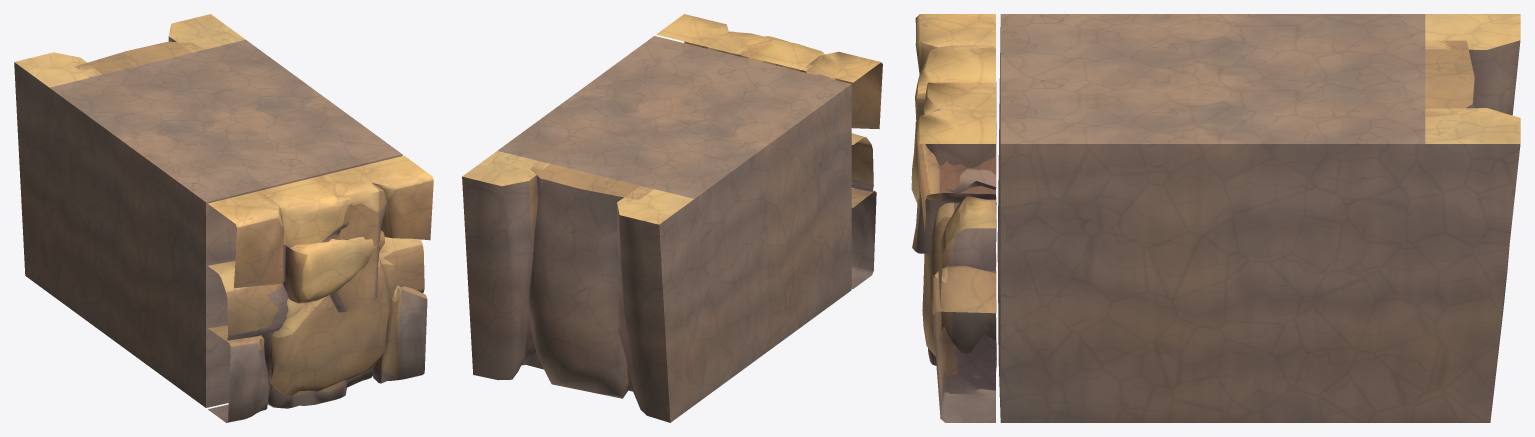
The model's file is T04_BareRockCore_V3.fbx.
The picture shows the model from 3 angles, left to right: view 1: azimuth 30°, elevation 25°; view 2: azimuth 150°, elevation 25°; view 3: azimuth 270°, elevation 25°; orthographic projection. The views are drawn at different scales.
Parts seen in each view (by area): view 1: T04_BareRockCore_V3; view 2: T04_BareRockCore_V3; view 3: T04_BareRockCore_V3.
Boxes of the visible parts, x1,y1,x2,y2 form: T04_BareRockCore_V3: [14, 14, 433, 422]; T04_BareRockCore_V3: [462, 14, 882, 422]; T04_BareRockCore_V3: [911, 14, 1520, 422].
Size of the model in its own units: 2 by 2.02 by 3.96.
